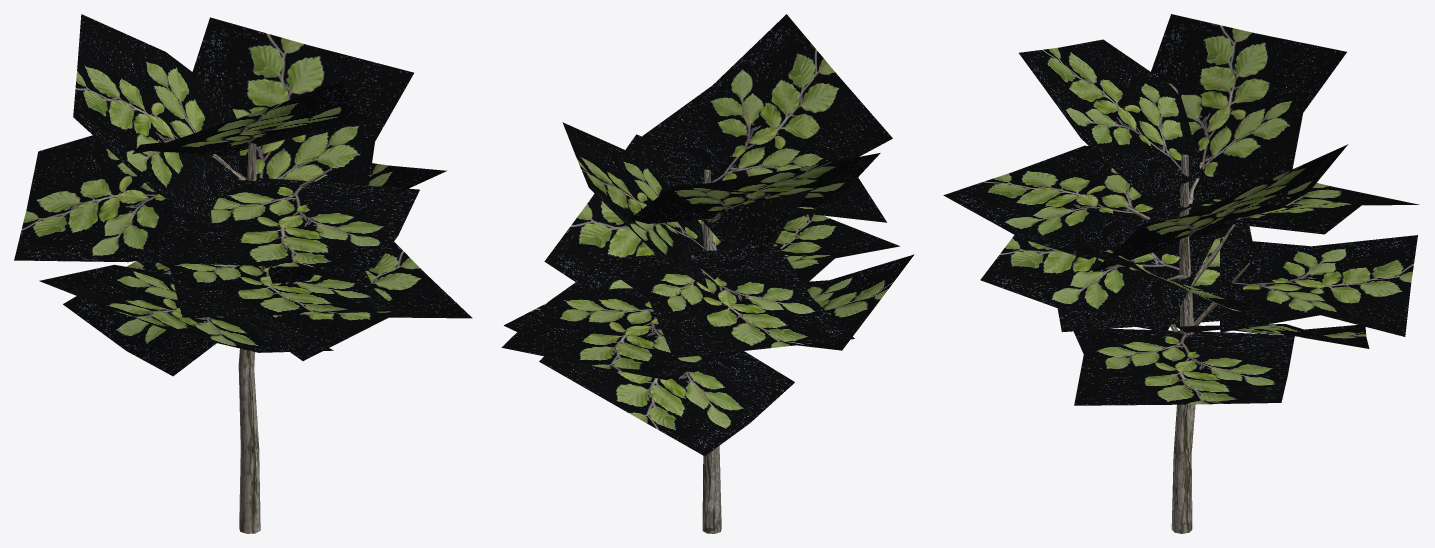
The model's file is tree.obj.
3 views of the same model, side by side, from view 1: azimuth 30°, elevation 25°; view 2: azimuth 150°, elevation 25°; view 3: azimuth 270°, elevation 25° (orthographic). The views are drawn at different scales.
Visible parts, largest first — view 1: hojas_07, hojas_05, hojas_04, hojas_02, hojas_08, hojas_06, hojas_010, hojas_011, hojas_09, tronco, hojas_03; view 2: hojas_011, hojas_02, hojas_09, hojas_01, hojas_05, hojas_07, hojas_03, hojas_08, hojas_06, hojas_04, tronco; view 3: hojas_07, hojas_01, hojas_011, hojas_010, hojas_04, hojas_08, hojas_05, tronco, hojas_02, hojas_06, hojas_09, hojas_03.
Part boxes in pixels (x1,y1,x2,y2): hojas_07: [73, 14, 239, 226]; hojas_05: [192, 17, 413, 185]; hojas_04: [158, 177, 419, 268]; hojas_02: [14, 135, 180, 262]; hojas_08: [145, 256, 399, 317]; hojas_06: [39, 264, 333, 352]; hojas_010: [263, 242, 472, 360]; hojas_011: [132, 82, 367, 177]; hojas_09: [63, 261, 216, 376]; tronco: [213, 143, 332, 533]; hojas_03: [268, 163, 446, 283]; hojas_011: [642, 14, 892, 253]; hojas_02: [592, 246, 854, 358]; hojas_09: [539, 351, 794, 456]; hojas_01: [501, 282, 726, 380]; hojas_05: [562, 122, 708, 288]; hojas_07: [621, 153, 880, 225]; hojas_03: [544, 134, 787, 290]; hojas_08: [773, 214, 899, 287]; hojas_06: [713, 254, 914, 360]; hojas_04: [653, 165, 886, 244]; tronco: [691, 169, 754, 533]; hojas_07: [1108, 14, 1346, 206]; hojas_01: [1220, 235, 1417, 336]; hojas_011: [1019, 39, 1204, 198]; hojas_010: [1073, 328, 1294, 405]; hojas_04: [943, 145, 1207, 259]; hojas_08: [980, 217, 1219, 332]; hojas_05: [1092, 144, 1348, 272]; tronco: [1122, 154, 1249, 533]; hojas_02: [1171, 183, 1419, 234]; hojas_06: [1057, 225, 1252, 332]; hojas_09: [1175, 324, 1369, 348]; hojas_03: [1070, 229, 1272, 315].
Bounding box in the file's own units: 39.31 × 50.8 × 45.97.
2 materials, 2 textured.
